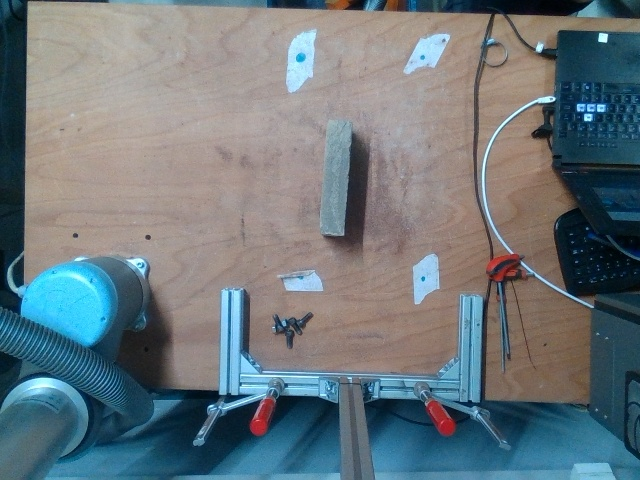brick-side: (319, 120, 353, 233)
